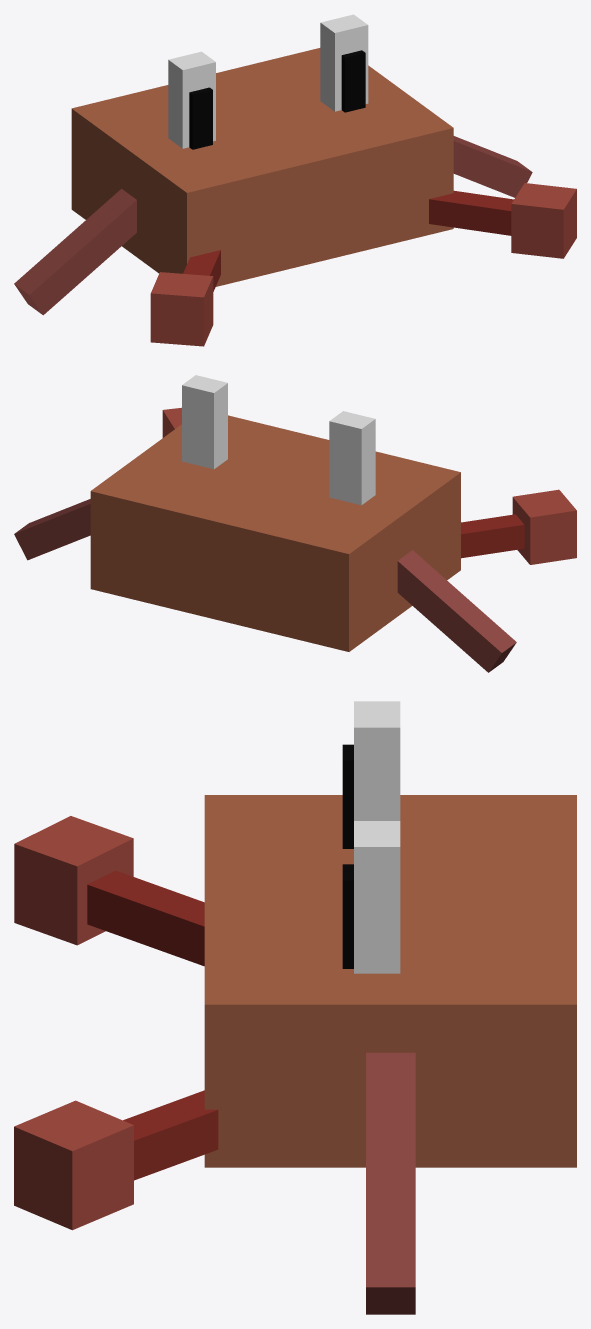
Rendered from crab.glb.
3 renders of one model, top to bottom at view 1: azimuth 30°, elevation 25°; view 2: azimuth 150°, elevation 25°; view 3: azimuth 270°, elevation 25°, orthographic. The views are drawn at different scales.
Parts seen in each view (by area): view 1: Cube, Cube.002, Cube.009, Cube.003, Cube.005, Cube.004, Cube.010, Cube.008, Cube.007, Cube.006, Cube.001; view 2: Cube, Cube.002, Cube.004, Cube.005, Cube.003, Cube.008, Cube.001, Cube.009; view 3: Cube, Cube.008, Cube.009, Cube.003, Cube.001, Cube.005, Cube.004, Cube.010, Cube.007, Cube.006.
Part boxes in pixels (x1,y1,x2,y2): Cube: (71,48,453,286); Cube.002: (14,189,136,315); Cube.009: (511,183,576,258); Cube.003: (150,272,213,346); Cube.005: (320,14,368,111); Cube.004: (168,51,215,148); Cube.010: (429,190,513,235); Cube.008: (453,136,532,197); Cube.007: (341,50,365,112); Cube.006: (189,87,212,149); Cube.001: (183,250,220,291); Cube: (90,415,460,651); Cube.002: (397,550,516,672); Cube.004: (329,411,375,505); Cube.005: (182,375,227,469); Cube.003: (512,489,576,564); Cube.008: (14,499,90,560); Cube.001: (461,514,524,558); Cube.009: (162,407,181,437); Cube: (204,795,576,1167); Cube.008: (366,1052,415,1314); Cube.009: (14,1100,133,1230); Cube.003: (14,816,133,945); Cube.001: (87,870,204,966); Cube.005: (354,821,400,973); Cube.004: (354,701,400,820); Cube.010: (123,1090,218,1180); Cube.007: (342,864,353,968); Cube.006: (342,744,353,848).
Bounding box in the file's own units: 3.02 × 1.23 × 1.82.
